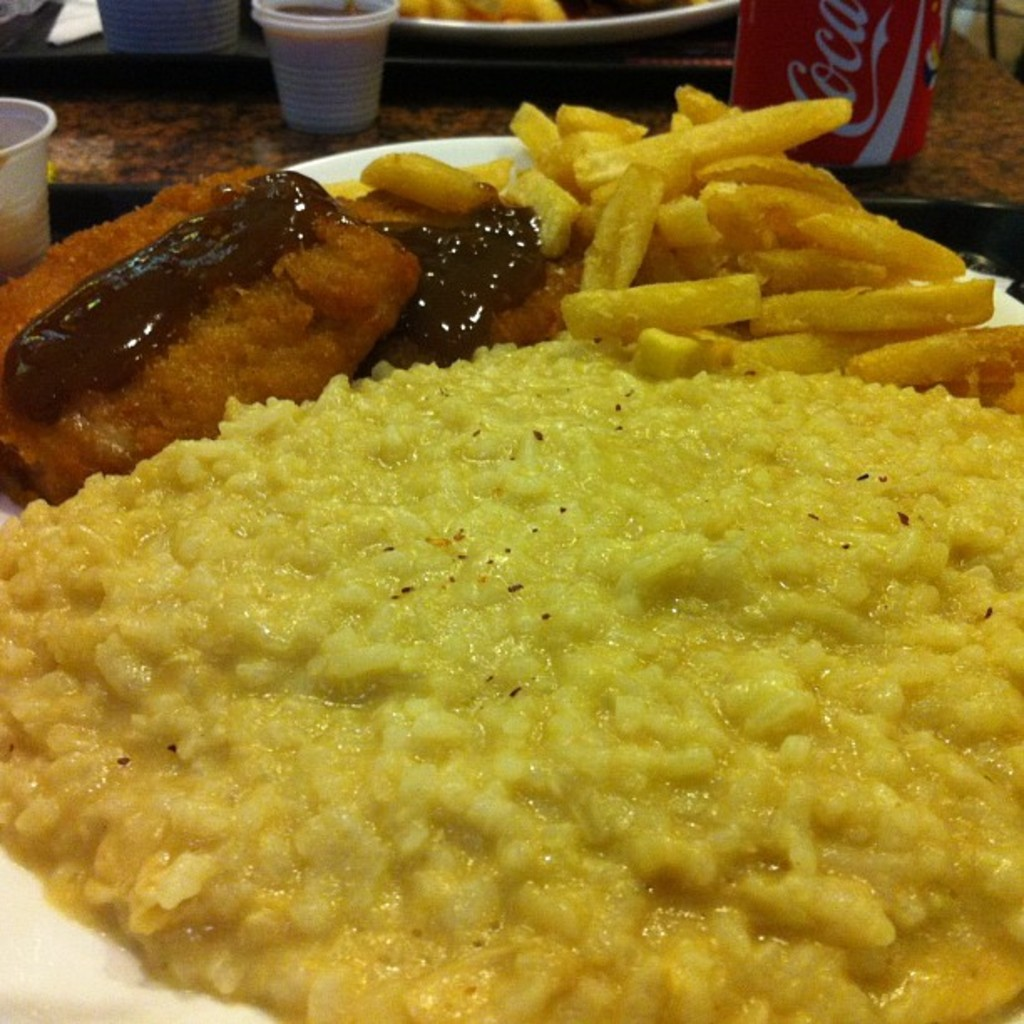French fries: (430, 93, 988, 399)
